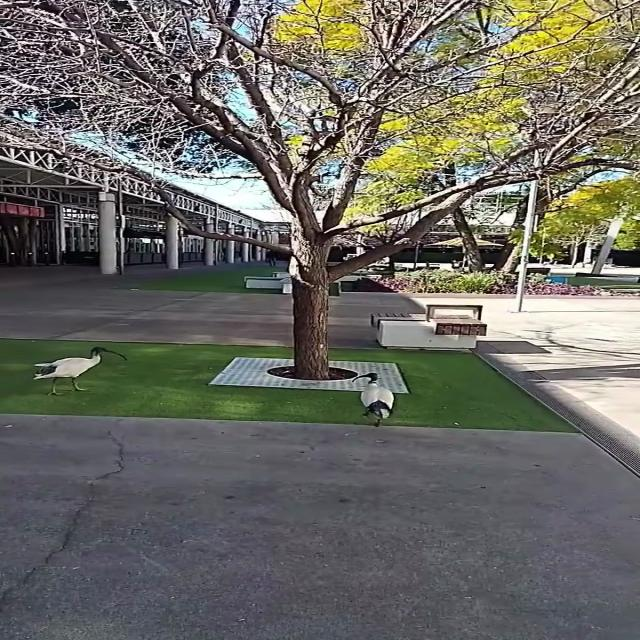Birds-Ibis: (29, 341, 134, 398), (347, 369, 402, 431)
